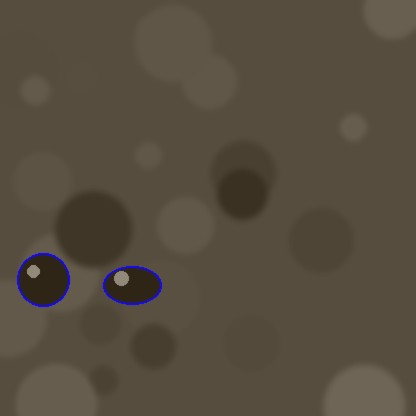gota: (17, 255, 69, 311), (103, 267, 161, 307)
